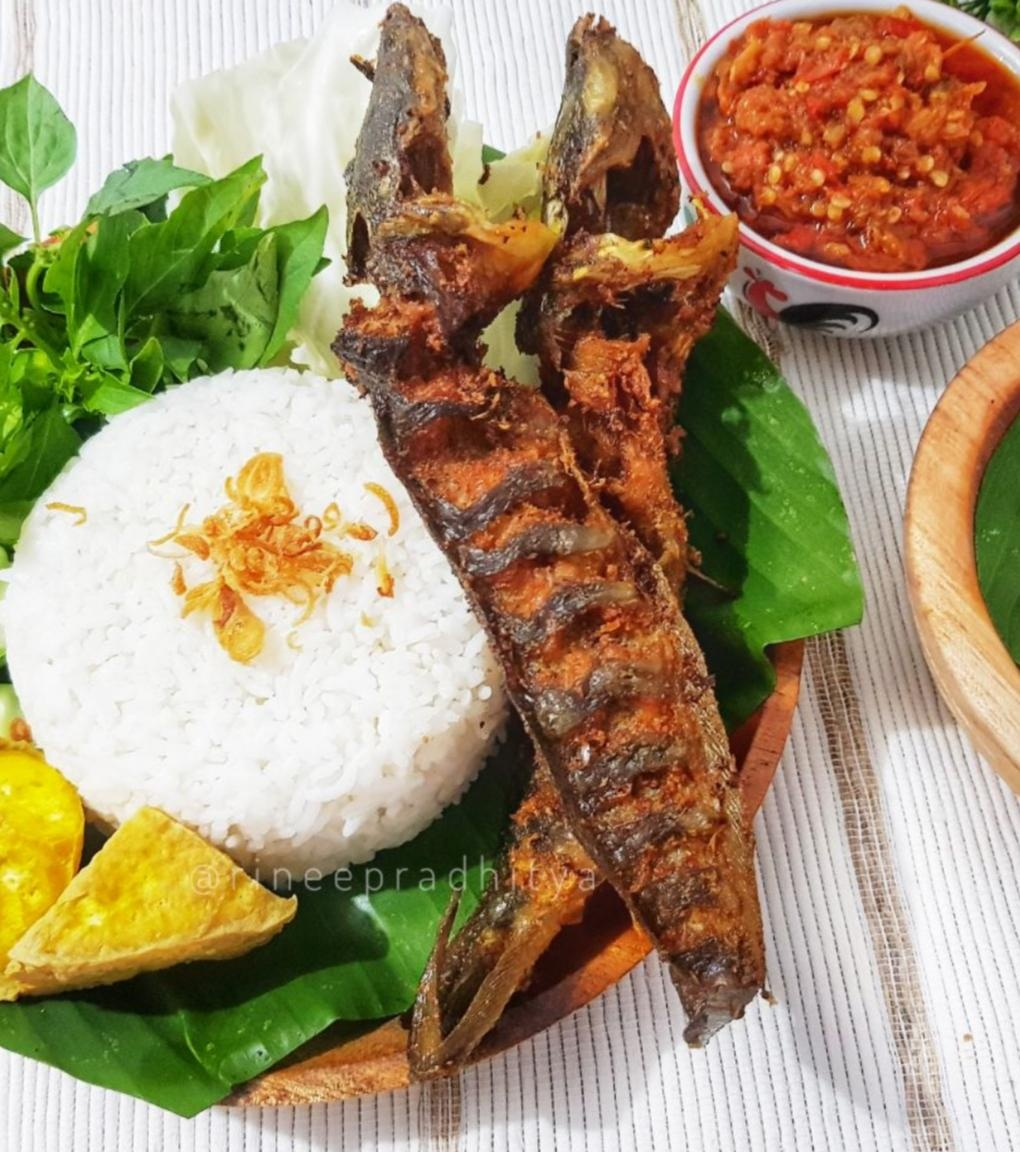pecel_lele: (340, 16, 773, 1066), (403, 30, 746, 1025)
